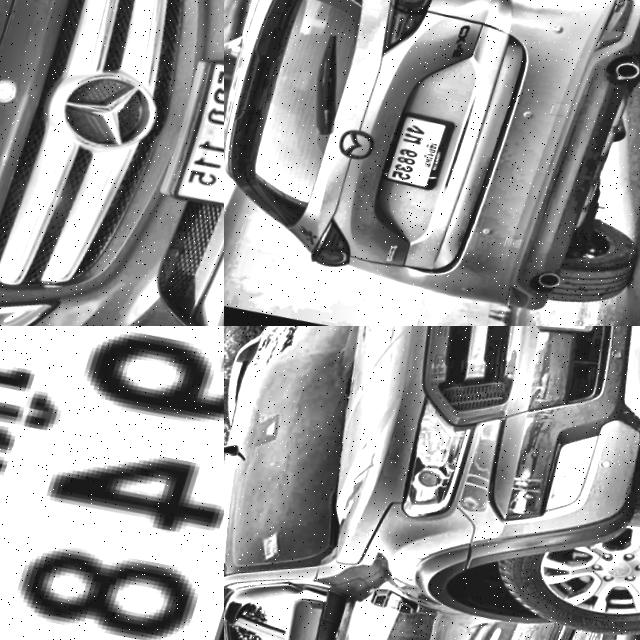license-plate: (0, 326, 224, 640), (160, 57, 224, 222), (379, 106, 472, 200)
